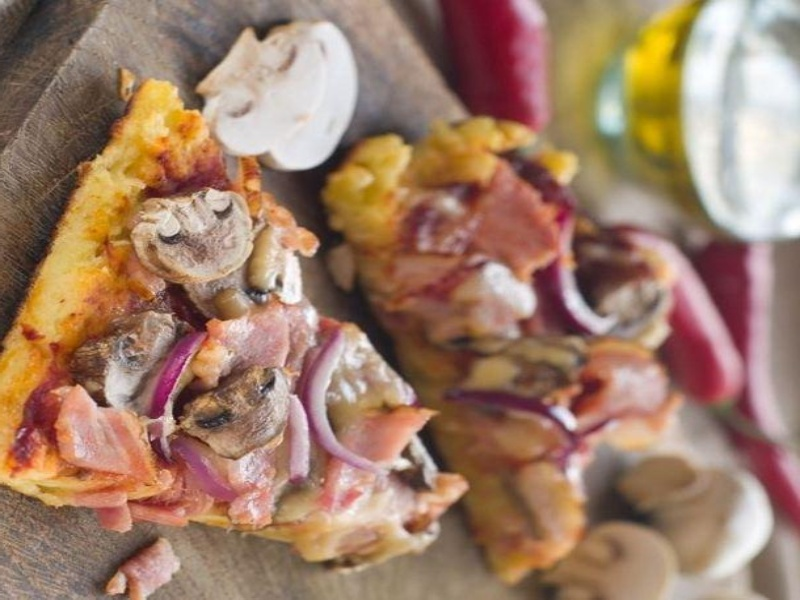champignon: (124, 182, 257, 288), (174, 361, 300, 465)
